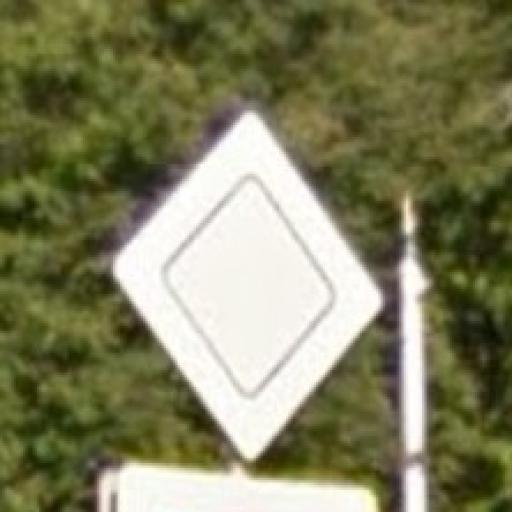traffic_sign: (110, 107, 387, 462)
